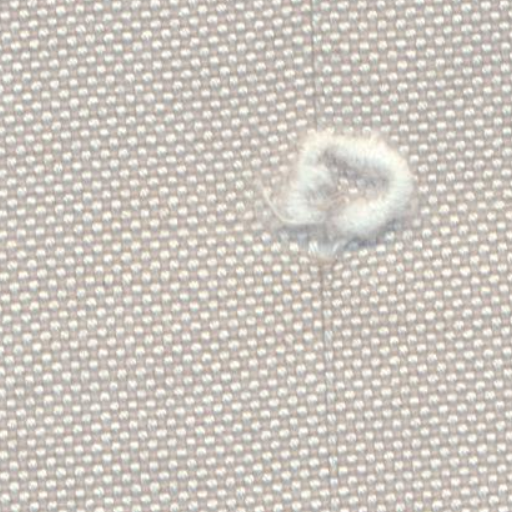DuanSha: (260, 119, 426, 270)
